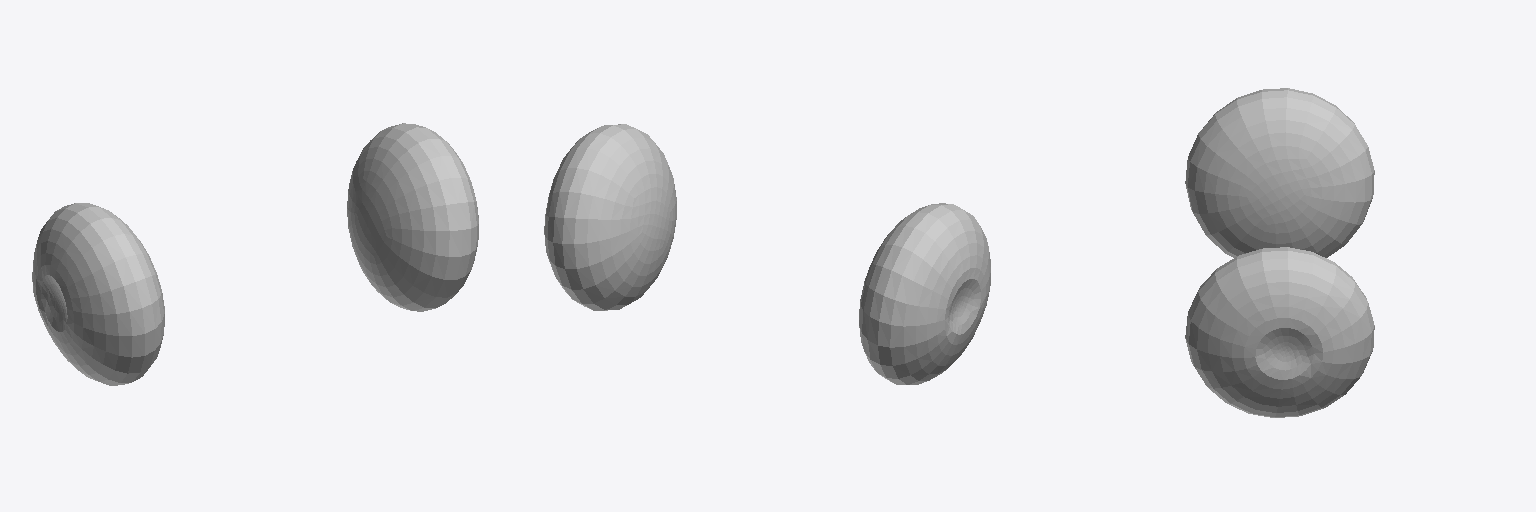
Rendered from SSZBRSHEYE.OBJ.
3 renders of one model, left to right at view 1: azimuth 30°, elevation 25°; view 2: azimuth 150°, elevation 25°; view 3: azimuth 270°, elevation 25°, orthographic.
Parts seen in each view (by area): view 1: ZBrush_defualt_group; view 2: ZBrush_defualt_group; view 3: ZBrush_defualt_group.
Boxes of the visible parts, <box> form: ZBrush_defualt_group: <box>32,123,478,385</box>; ZBrush_defualt_group: <box>544,124,990,384</box>; ZBrush_defualt_group: <box>1185,88,1374,417</box>.
Bounding box in the file's own units: 0.9151 × 0.3715 × 0.3726.